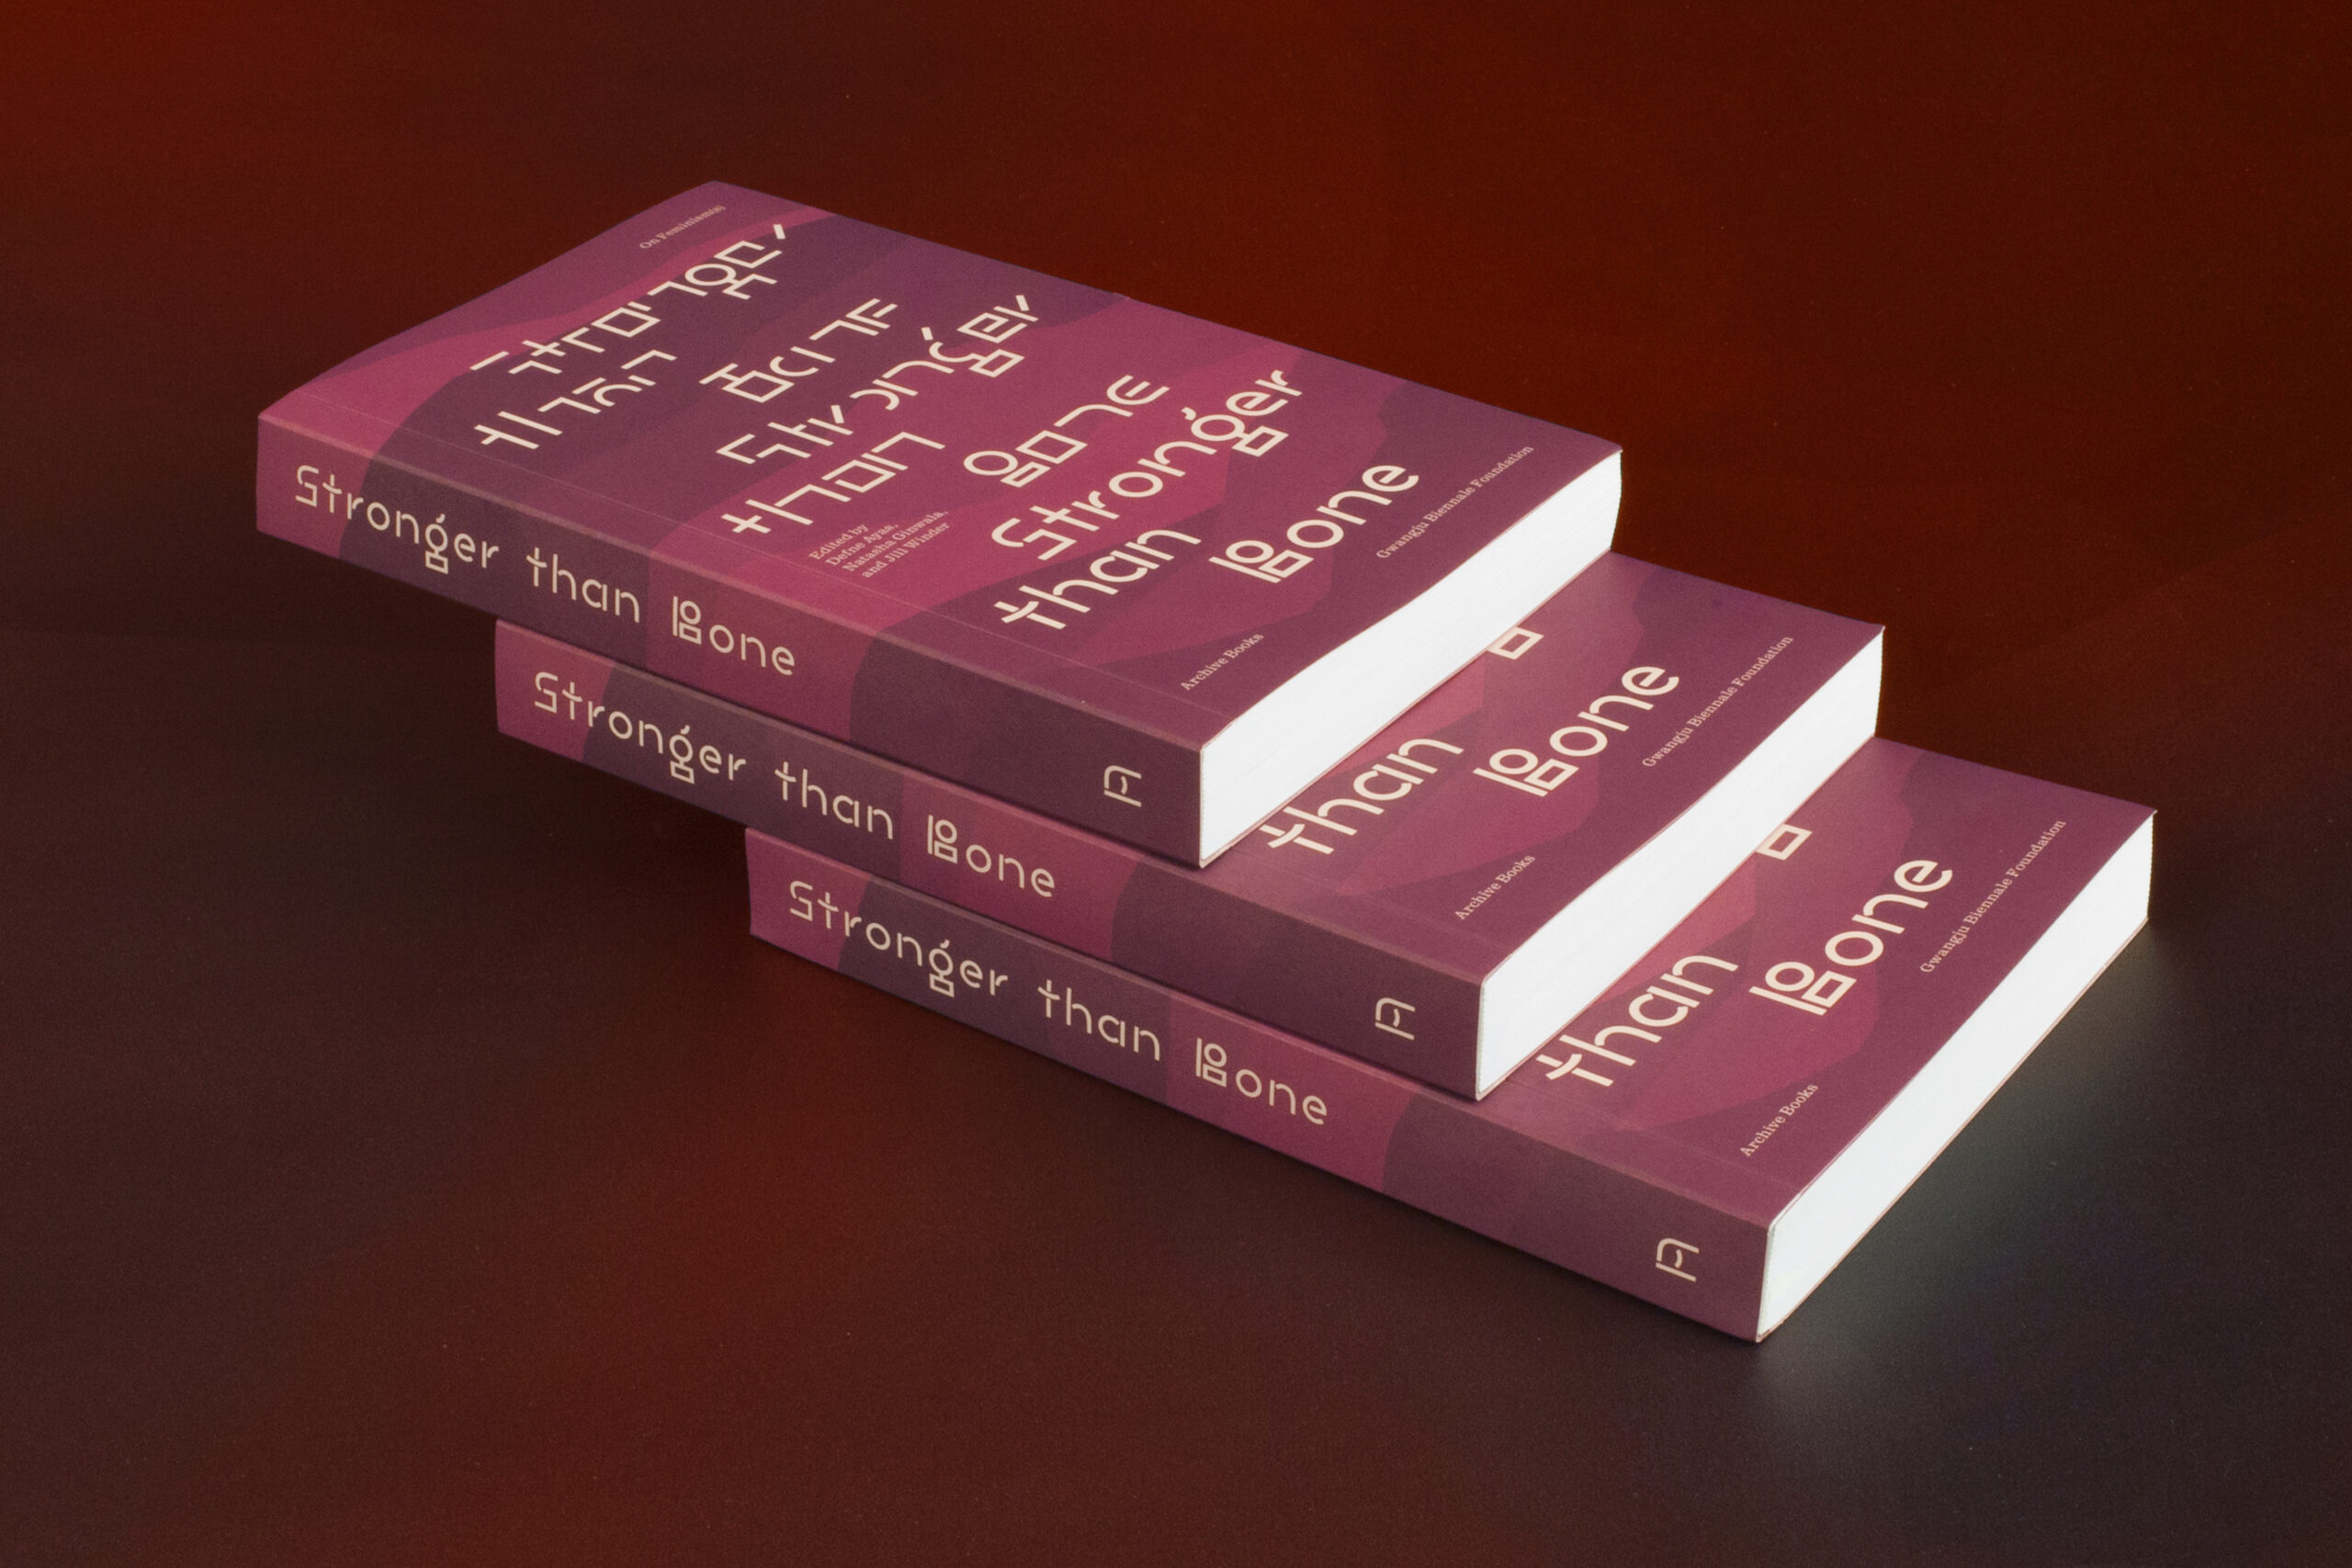buku: (238, 171, 2172, 1334)
